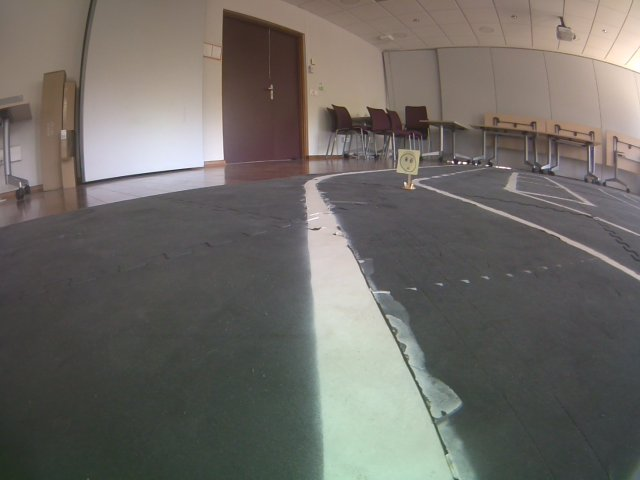Smiley: (396, 147, 421, 175)
